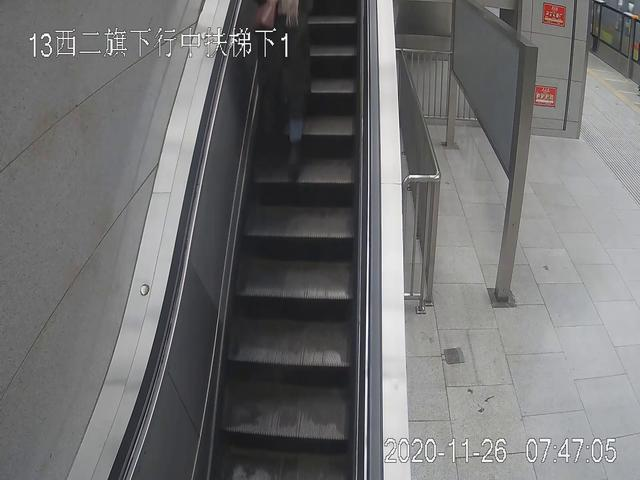person: (254, 1, 318, 188)
